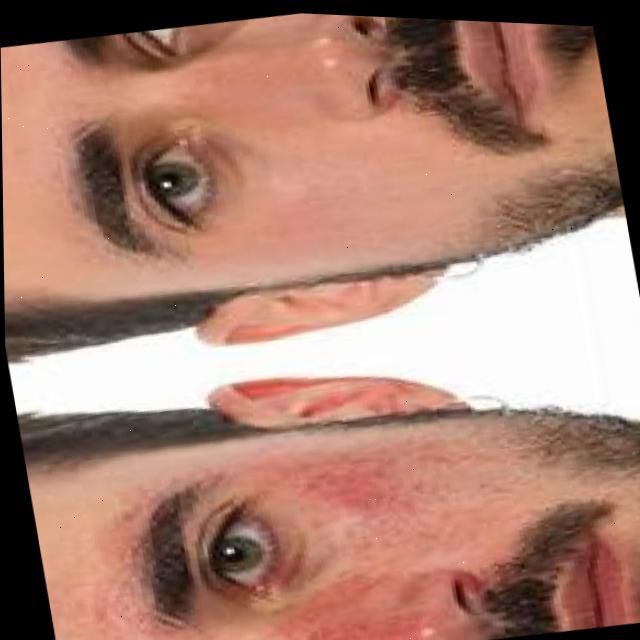Rosacea: (258, 422, 460, 557), (288, 576, 446, 640)
